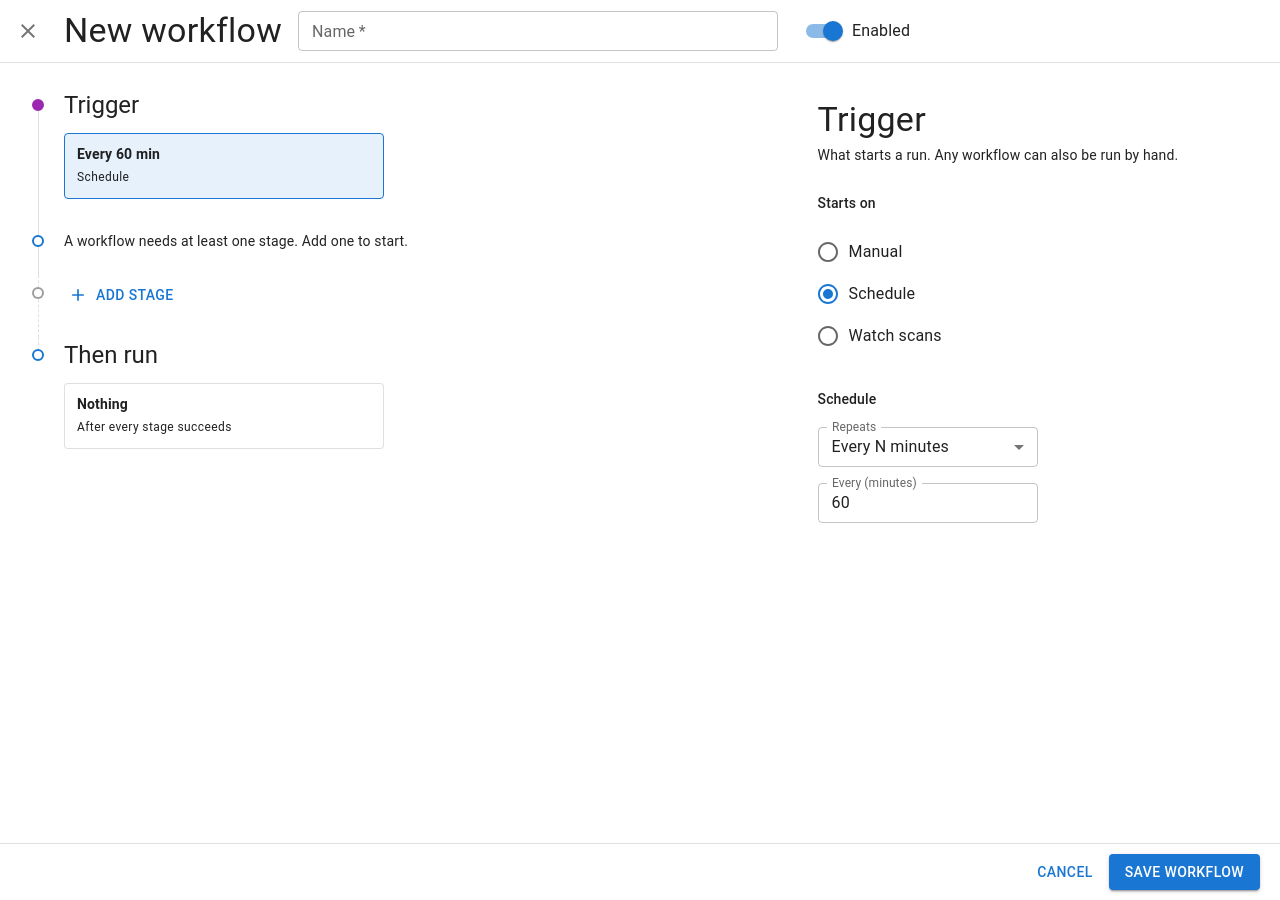
Test case: generates unique output names and explains disabled inputs
Note: A new stage arrives with its first activity, opened for editing.
Click the button "Add stage".
click(123, 295)  # box top-left (64, 277), bottom-right (182, 313)
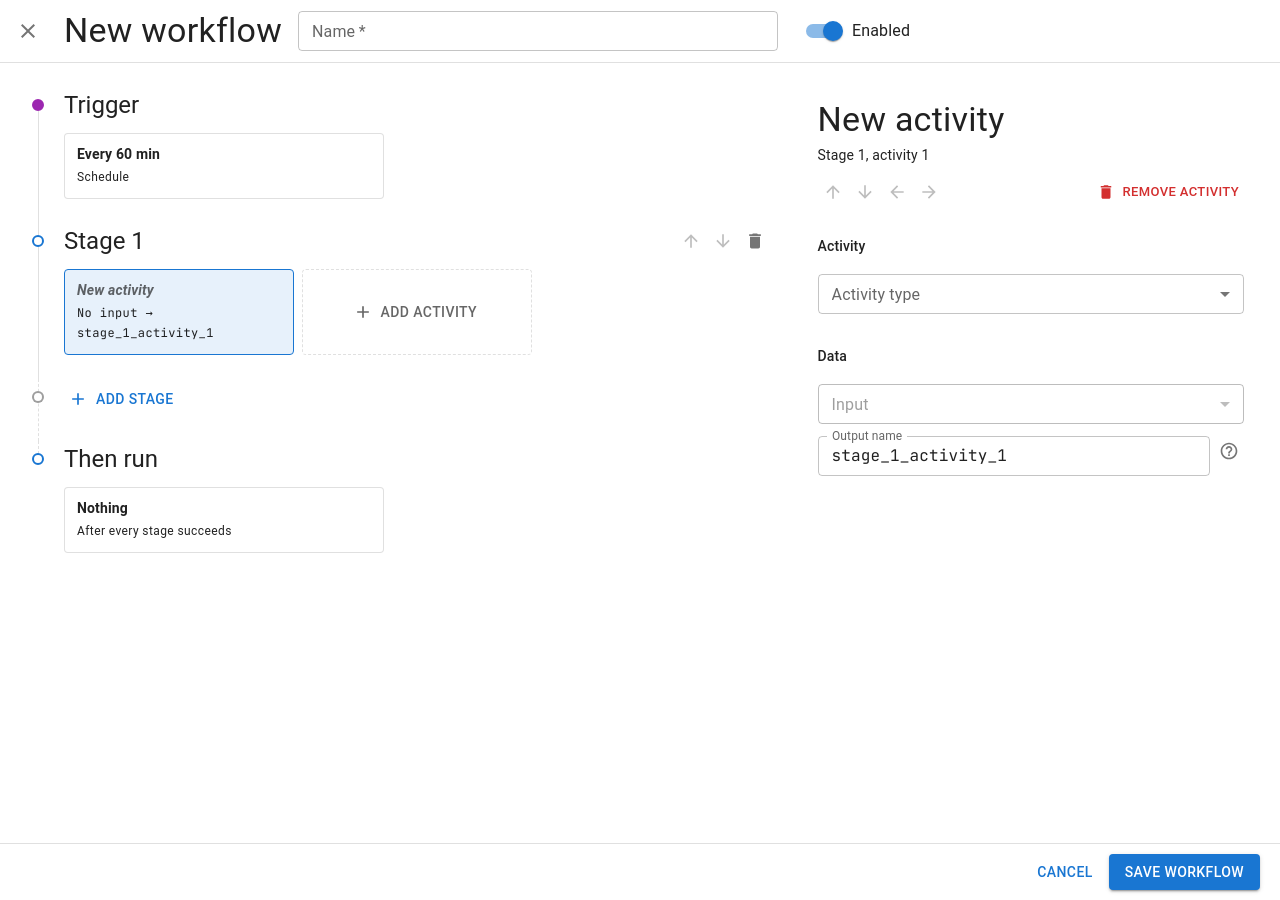
Expected: the field showing "stage_1_activity_1" is shown, top-left (818, 436), bottom-right (1210, 476)
Click the button "Add activity".
click(417, 312)  # box top-left (302, 269), bottom-right (532, 355)
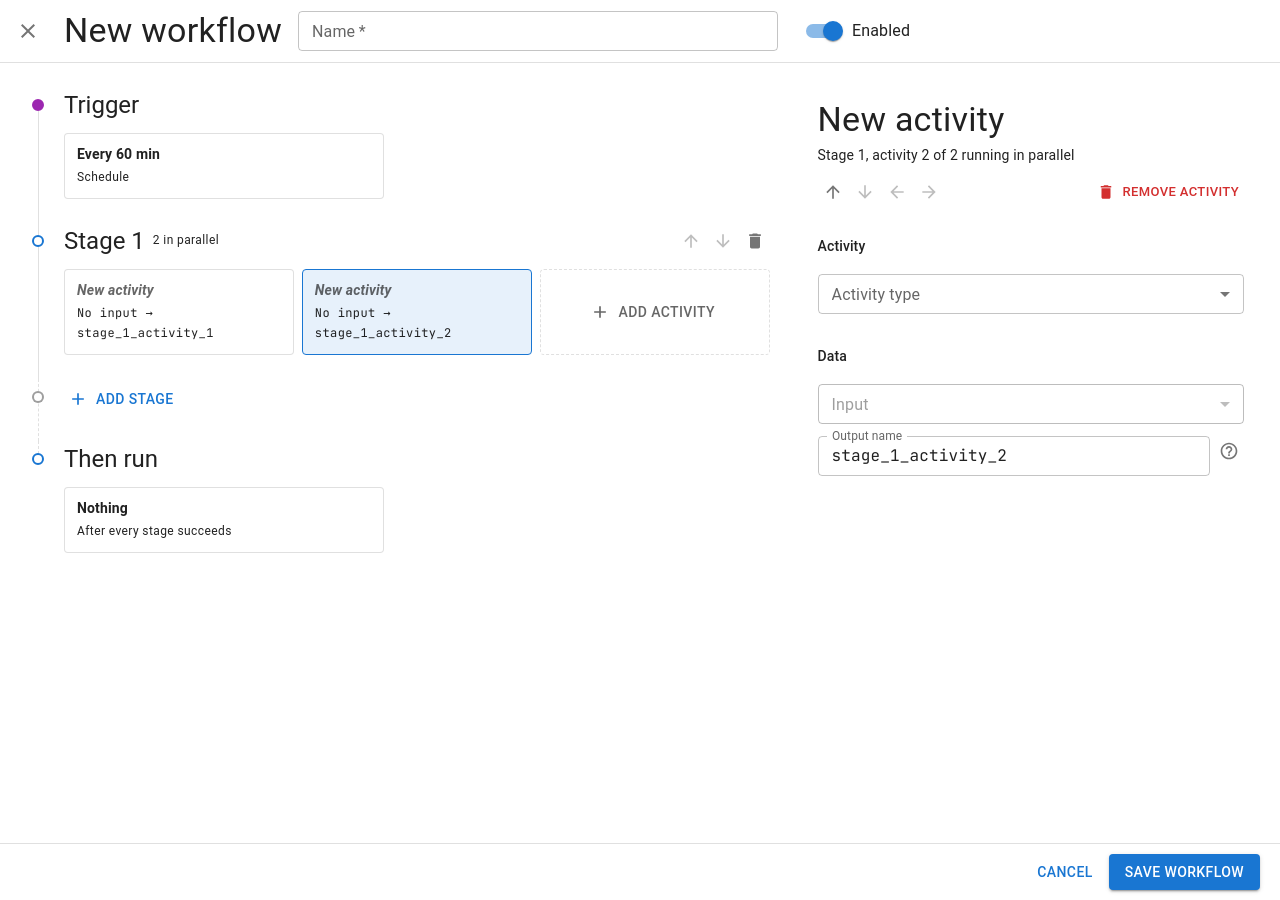
Expected: the button "New activity No input → stage_1_activity_1" is shown, top-left (64, 269), bottom-right (294, 355)
Expected: the field showing "stage_1_activity_2" is shown, top-left (818, 436), bottom-right (1210, 476)
Hover over the element named "Input unavailable".
mouse_move(1031, 404)  # box top-left (818, 384), bottom-right (1244, 424)
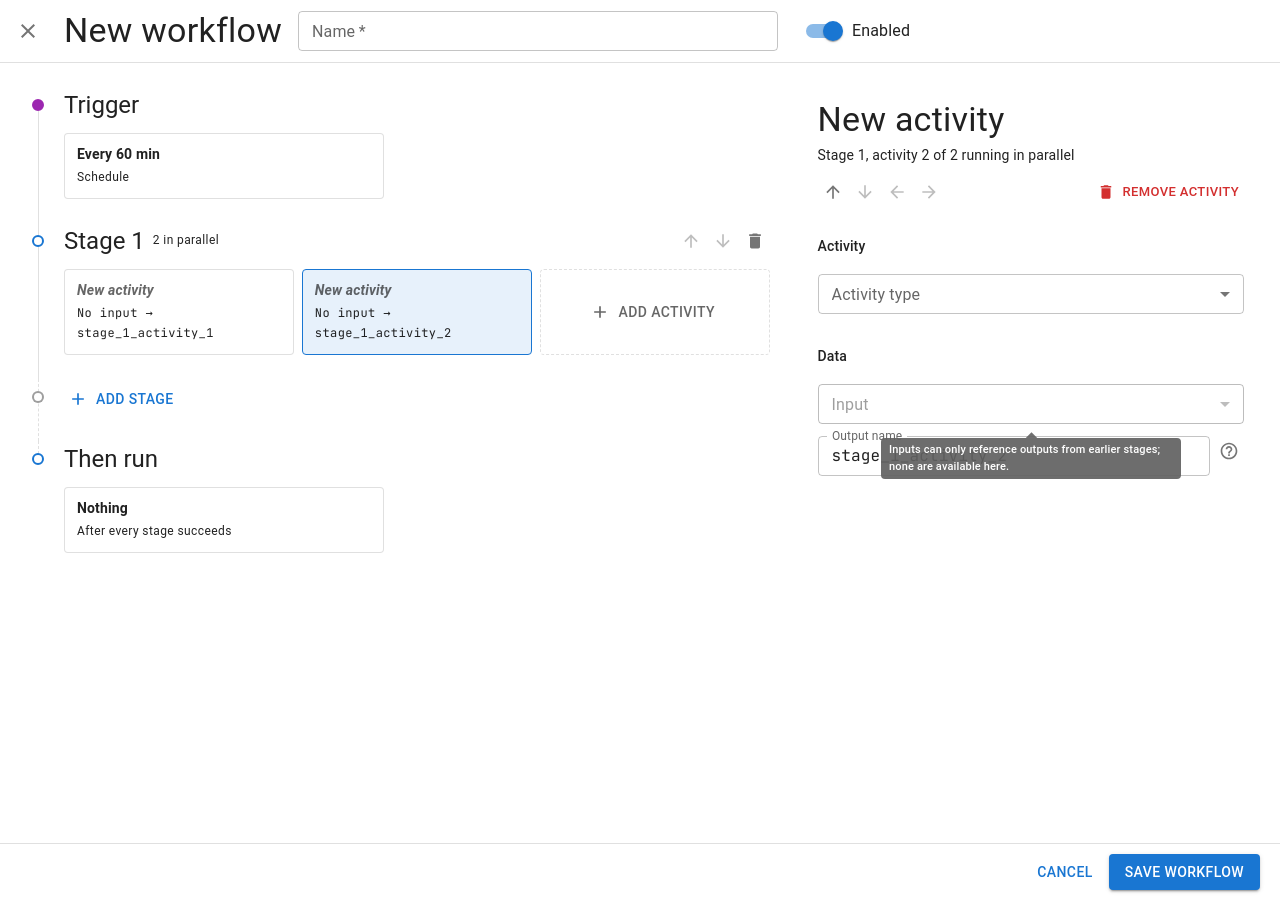
Expected: the tooltip "Inputs can only reference outputs from earlier stages; none are available here." is shown, top-left (879, 424), bottom-right (1183, 479)
